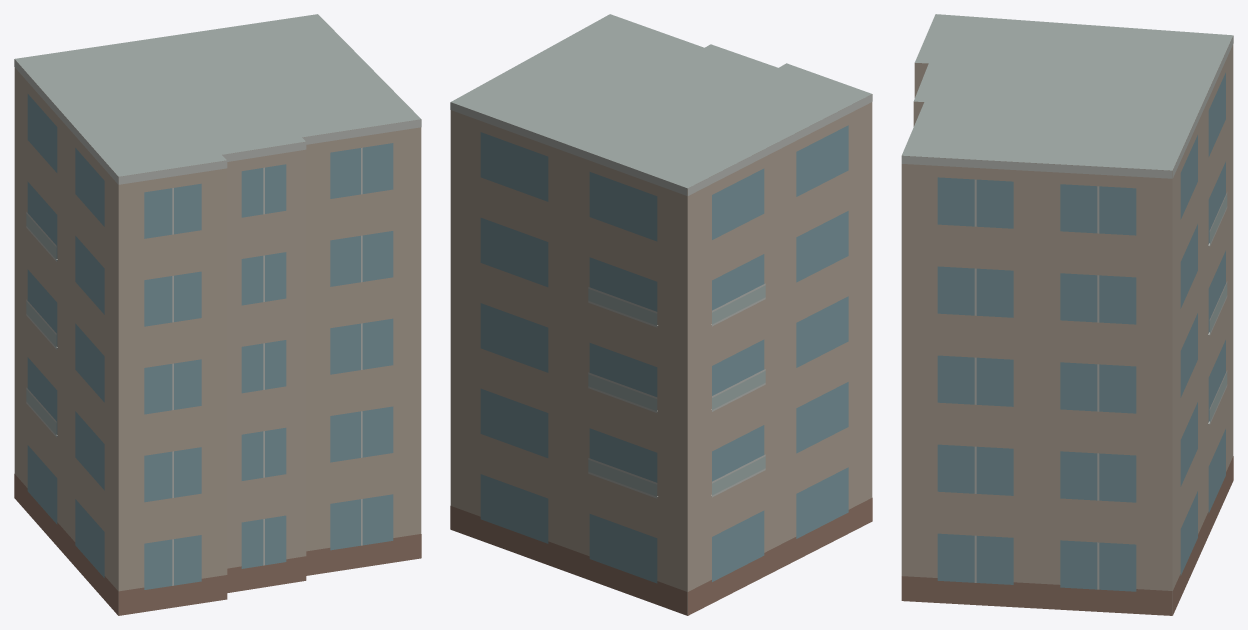
The model's file is survey-upis-32661737.glb.
The picture shows the model from 3 angles, left to right: view 1: azimuth 30°, elevation 25°; view 2: azimuth 150°, elevation 25°; view 3: azimuth 270°, elevation 25°; orthographic projection. The views are drawn at different scales.
Visible parts, largest first — view 1: survey-upis-32661737.tmp; view 2: survey-upis-32661737.tmp; view 3: survey-upis-32661737.tmp.
Boxes of the visible parts, left/top/right/bottom form: survey-upis-32661737.tmp: left=14, top=14, right=421, bottom=615; survey-upis-32661737.tmp: left=450, top=14, right=872, bottom=615; survey-upis-32661737.tmp: left=901, top=14, right=1233, bottom=615.
Size of the model in its own units: 10.04 by 13.3 by 8.99.
